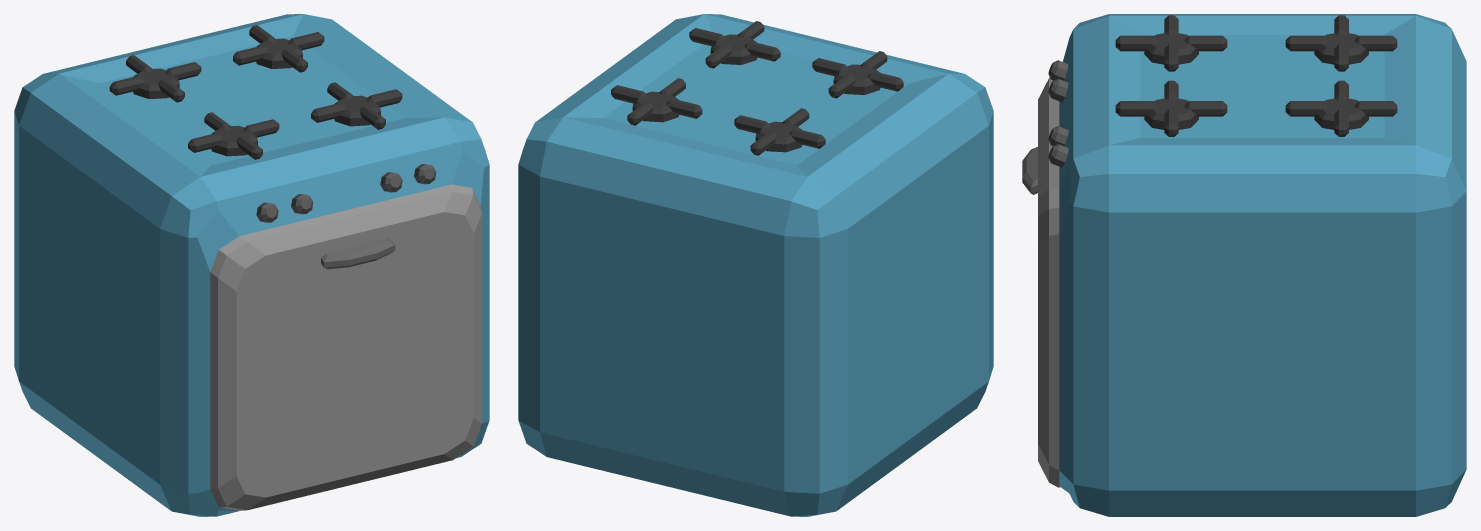
The model's file is Oven.fbx.
3 views of the same model, side by side, from view 1: azimuth 30°, elevation 25°; view 2: azimuth 150°, elevation 25°; view 3: azimuth 270°, elevation 25° (orthographic). The views are drawn at different scales.
Parts seen in each view (by area): view 1: Oven; view 2: Oven; view 3: Oven.
Part boxes in pixels (x1,y1,x2,y2): Oven: (14, 14, 489, 516); Oven: (518, 14, 993, 516); Oven: (1022, 14, 1466, 516).
Bounding box in the file's own units: 0.7287 × 0.7517 × 0.7933.
Materials: 1 (1 with a texture image).
